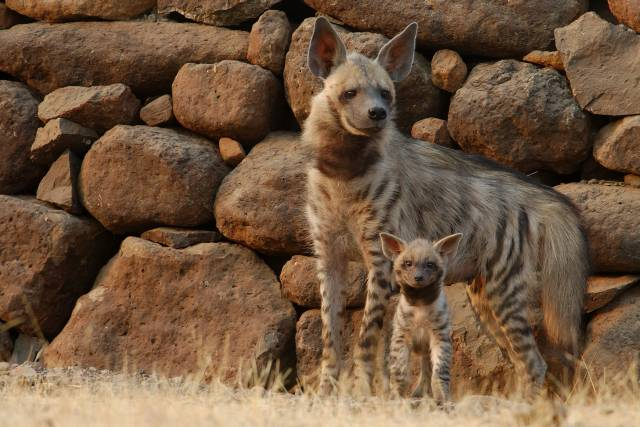hyena: (297, 17, 590, 418), (372, 237, 463, 402)
